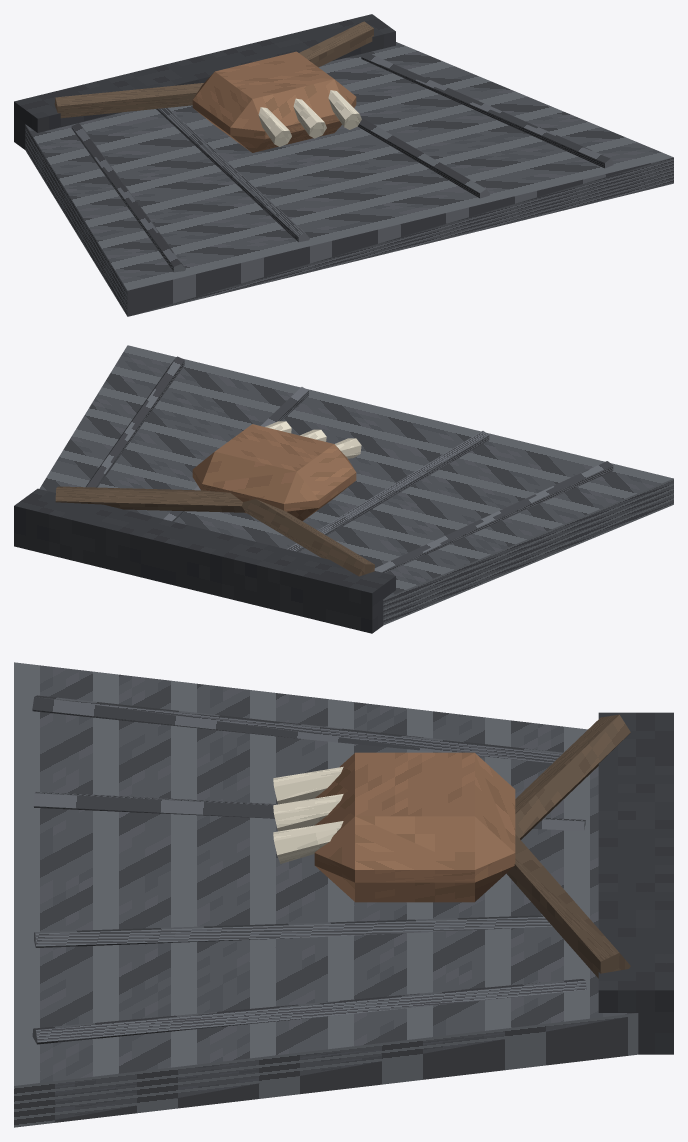
Rendered from kilt.glb.
3 views of the same model, one above another, from view 1: azimuth 30°, elevation 25°; view 2: azimuth 150°, elevation 25°; view 3: azimuth 270°, elevation 25° (orthographic). The views are drawn at different scales.
Parts seen in each view (by area): view 1: block_pleated skirt, block_sporran pouch, block_pleat 0 (×4), block_waist band, block_sporran strap 0, block_sporran tassels (×3), block_sporran strap 1; view 2: block_pleated skirt, block_waist band, block_sporran pouch, block_pleat 0 (×4), block_sporran strap 1, block_sporran strap 0; view 3: block_pleated skirt, block_pleat 0 (×4), block_sporran pouch, block_waist band, block_sporran strap 1, block_sporran tassels (×3), block_sporran strap 0.
Part boxes in pixels (box(x1,y1,x2,y2)): block_pleated skirt: box(25, 42, 673, 316); block_sporran pouch: box(192, 51, 356, 152); block_pleat 0 (×4): box(71, 52, 613, 272); block_waist band: box(14, 14, 395, 149); block_sporran strap 0: box(54, 83, 203, 118); block_sporran tassels (×3): box(258, 90, 361, 146); block_sporran strap 1: box(299, 21, 373, 67); block_pleated skirt: box(39, 345, 673, 625); block_waist band: box(14, 488, 395, 633); block_sporran pouch: box(192, 424, 356, 521); block_pleat 0 (×4): box(86, 356, 613, 573); block_sporran strap 1: box(55, 486, 245, 512); block_sporran strap 0: box(242, 499, 374, 576); block_pleated skirt: box(14, 662, 638, 1127); block_pleat 0 (×4): box(32, 695, 586, 1044); block_sporran pouch: box(314, 752, 515, 902); block_waist band: box(598, 712, 673, 1054); block_sporran strap 1: box(506, 834, 630, 978); block_sporran tassels (×3): box(273, 766, 343, 863); block_sporran strap 0: box(515, 714, 630, 839).
Bounding box in the file's own units: 0.5609 × 0.081 × 0.3693.
1 material, 1 textured.
